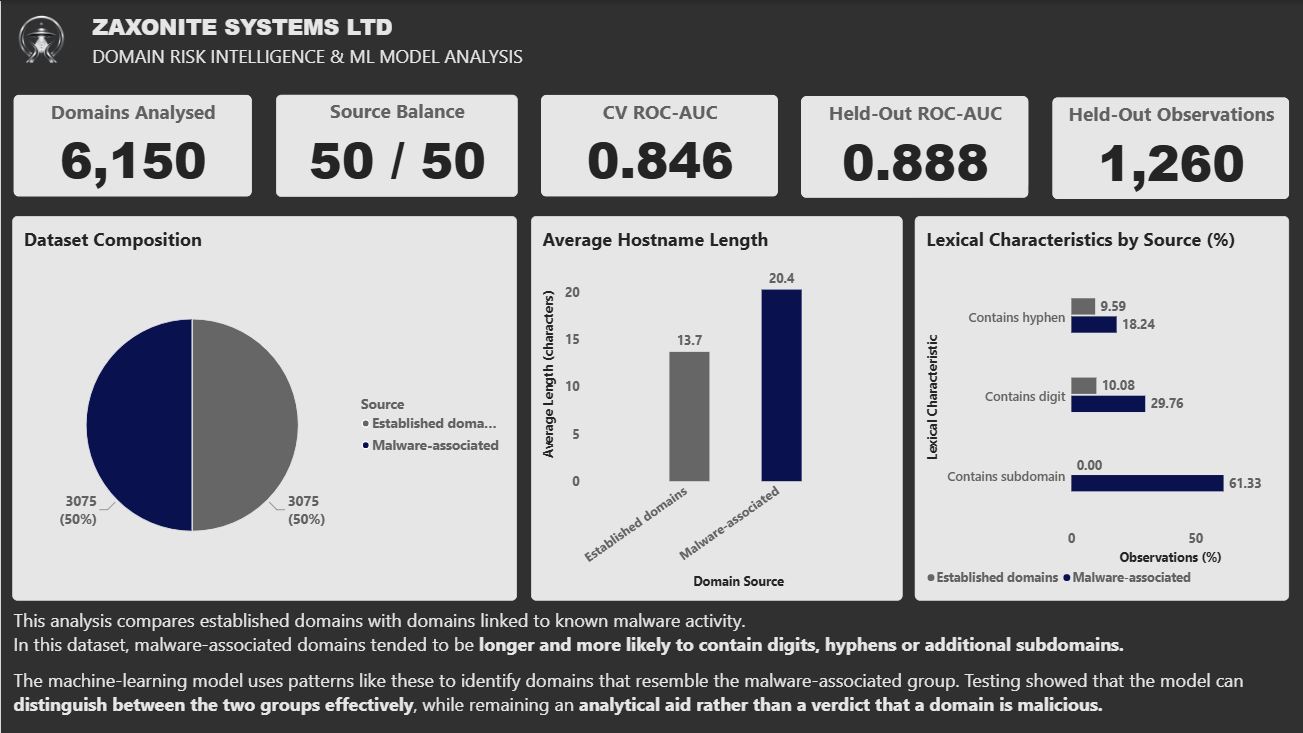

What the dashboard file says about the page in this screenshot:
{"tool":"powerbi","page":{"name":"Domain Risk Overview","canvas":[1920,1080],"ordinal":1},"visuals":[{"type":"textbox","box":[133.8,61.7,691.6,35],"z":0},{"type":"image","box":[0,0,119.1,116.9],"z":1000},{"type":"textbox","box":[133.8,14.4,473.4,47.3],"z":2000},{"type":"cardVisual","fields":{"Data":["source_summary.Domains Analysed"]},"box":[18.5,137.9,352,150.3],"z":3000},{"type":"cardVisual","fields":{"Data":["source_summary.Source Balance"]},"box":[404.5,137.9,356.1,150.3],"z":4000},{"type":"cardVisual","fields":{"Data":["candidate_coefficients.CV ROC-AUC"]},"box":[794.5,137.9,349.9,150.3],"z":5000},{"type":"cardVisual","fields":{"Data":["candidate_coefficients.Held-Out ROC-AUC"]},"box":[1178.4,140,335.5,150.3],"z":6000},{"type":"cardVisual","fields":{"Data":["candidate_coefficients.Held-Out Observations"]},"box":[1547.9,142,349.9,150.3],"z":7000},{"type":"pieChart","title":"Dataset Composition","fields":{"Y":["Sum(source_summary.Observations)"],"Category":["source_summary.Source Display"]},"box":[17.1,316.2,743.4,566.1],"z":8000},{"type":"clusteredColumnChart","title":"Average Hostname Length","fields":{"Y":["Sum(source_summary.Mean Hostname Length)"],"Category":["source_summary.Source Display"]},"box":[779.7,316.2,546.9,566.1],"z":9000},{"type":"clusteredBarChart","title":"Lexical Characteristics by Source (%)","fields":{"Category":["lexical_presence_summary.Characteristic"],"Y":["Sum(lexical_presence_summary.Percentage)"],"Series":["lexical_presence_summary.Source Display"]},"box":[1345.8,316.2,551.1,566.1],"z":10000},{"type":"textbox","box":[17.6,893,1878.6,172],"z":11000}]}

Visuals, with their boxes in screenshot pixels (x1, y1, x2, y2), scaled from the page's 1920x1080 canvas onto the 1303x733 screenshot:
textbox: (left=91, top=42, right=560, bottom=66)
image: (left=0, top=0, right=81, bottom=79)
textbox: (left=91, top=10, right=412, bottom=42)
cardVisual - source_summary.Domains Analysed: (left=13, top=94, right=251, bottom=196)
cardVisual - source_summary.Source Balance: (left=275, top=94, right=516, bottom=196)
cardVisual - candidate_coefficients.CV ROC-AUC: (left=539, top=94, right=777, bottom=196)
cardVisual - candidate_coefficients.Held-Out ROC-AUC: (left=800, top=95, right=1027, bottom=197)
cardVisual - candidate_coefficients.Held-Out Observations: (left=1050, top=96, right=1288, bottom=198)
"Dataset Composition" pieChart: (left=12, top=215, right=516, bottom=599)
"Average Hostname Length" clusteredColumnChart: (left=529, top=215, right=900, bottom=599)
"Lexical Characteristics by Source (%)" clusteredBarChart: (left=913, top=215, right=1287, bottom=599)
textbox: (left=12, top=606, right=1287, bottom=723)
